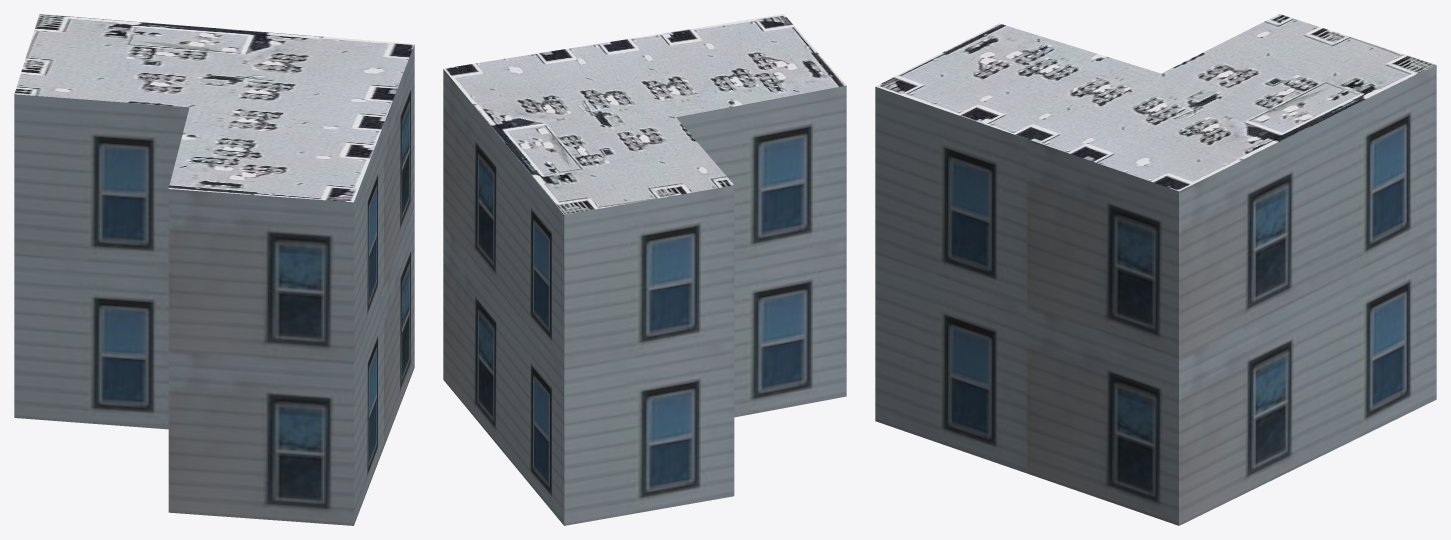
File: ResTex__3696.fbx
The picture shows the model from 3 angles, left to right: view 1: azimuth 30°, elevation 25°; view 2: azimuth 150°, elevation 25°; view 3: azimuth 270°, elevation 25°; orthographic projection. The views are drawn at different scales.
Parts seen in each view (by area): view 1: CityEngineMaterial_18_m, CityEngineMaterial_4_m; view 2: CityEngineMaterial_18_m, CityEngineMaterial_4_m; view 3: CityEngineMaterial_18_m, CityEngineMaterial_4_m.
Boxes of the visible parts, x1=… form: CityEngineMaterial_18_m: x1=14, y1=45, x2=414, y2=525; CityEngineMaterial_4_m: x1=14, y1=14, x2=414, y2=202; CityEngineMaterial_18_m: x1=443, y1=69, x2=846, y2=525; CityEngineMaterial_4_m: x1=443, y1=14, x2=846, y2=214; CityEngineMaterial_18_m: x1=875, y1=65, x2=1436, y2=525; CityEngineMaterial_4_m: x1=875, y1=14, x2=1435, y2=191.
Size of the model in its own units: 6.82 by 6 by 9.13.
Materials: 2 (2 with a texture image).
